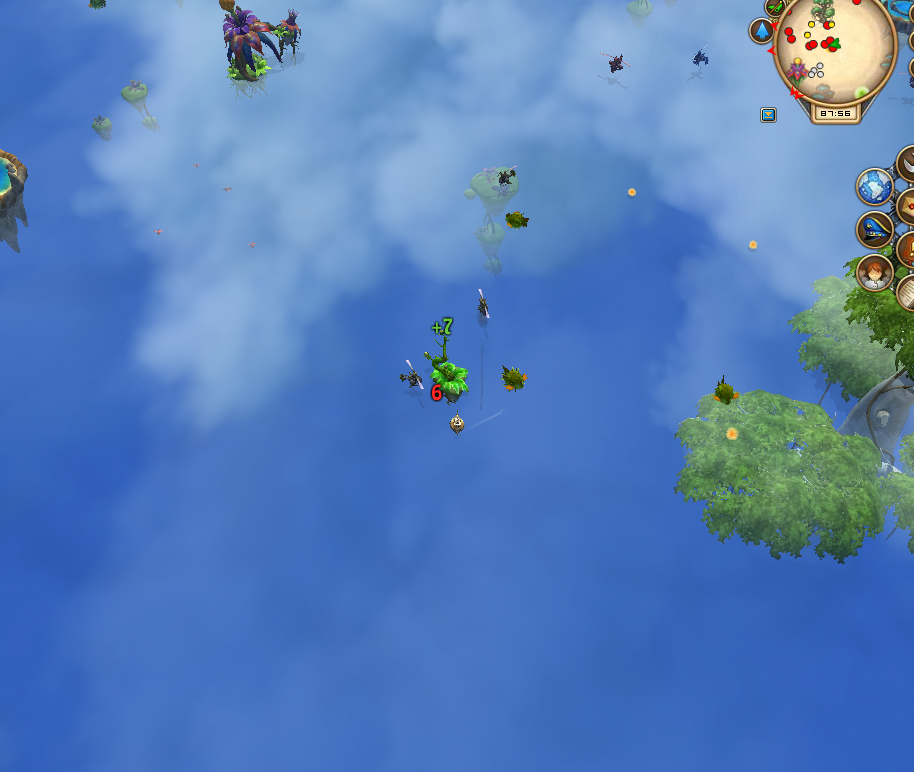dandelion-empty: (426, 330, 470, 406)
fluff: (741, 232, 762, 255), (620, 182, 641, 204), (724, 423, 741, 443)
